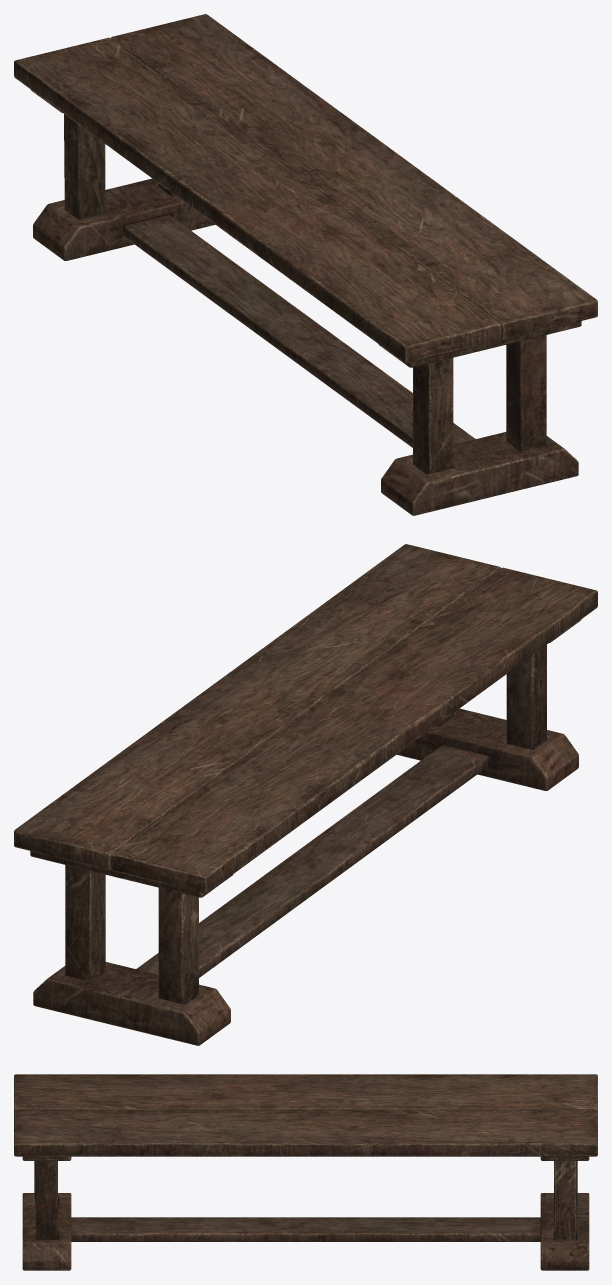
The model's file is mesa campestre.glb.
3 renders of one model, top to bottom at view 1: azimuth 30°, elevation 25°; view 2: azimuth 150°, elevation 25°; view 3: azimuth 270°, elevation 25°, orthographic. The views are drawn at different scales.
Parts seen in each view (by area): view 1: Dirty_Olde_Table; view 2: Dirty_Olde_Table; view 3: Dirty_Olde_Table.
Boxes of the visible parts, x1,y1,x2,y2 form: Dirty_Olde_Table: [14, 14, 597, 515]; Dirty_Olde_Table: [14, 544, 597, 1045]; Dirty_Olde_Table: [14, 1074, 597, 1270].
Size of the model in its own units: 1.05 by 0.9212 by 3.69.
1 material, 1 textured.
